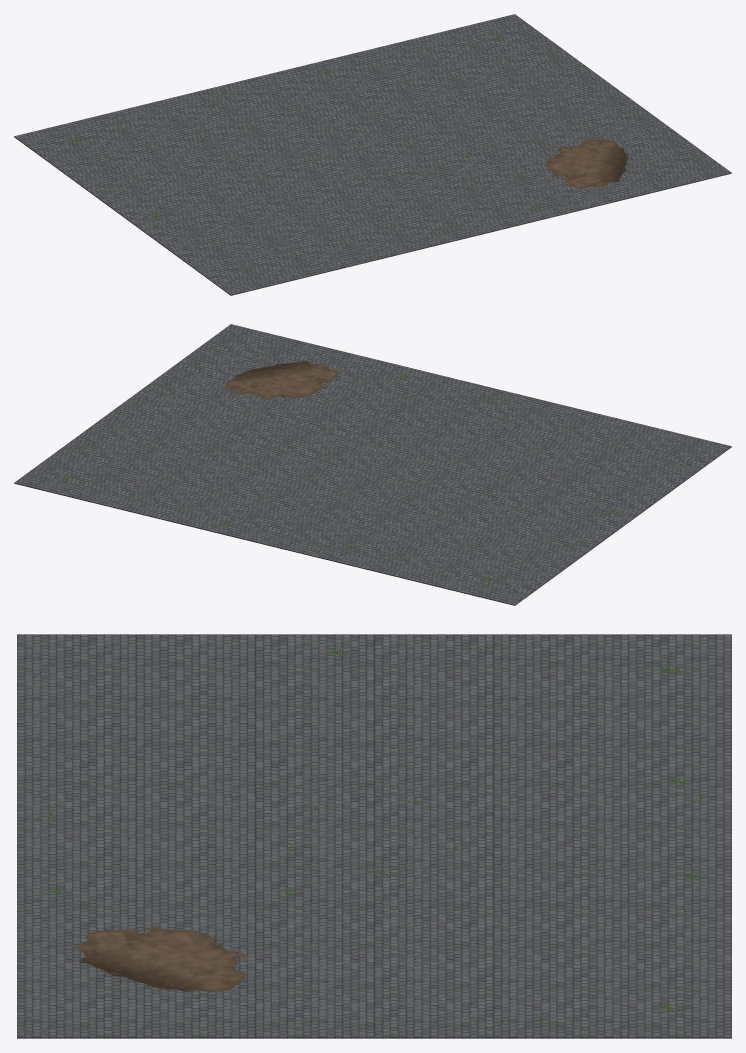
The model's file is CastleCourtyardGround.fbx.
The picture shows the model from 3 angles, top to bottom: view 1: azimuth 30°, elevation 25°; view 2: azimuth 150°, elevation 25°; view 3: azimuth 270°, elevation 25°; orthographic projection. The views are drawn at different scales.
Parts seen in each view (by area): view 1: Courtyard_FlagstoneFloor, Courtyard_DirtAndWeathering; view 2: Courtyard_FlagstoneFloor, Courtyard_DirtAndWeathering; view 3: Courtyard_FlagstoneFloor, Courtyard_DirtAndWeathering.
Boxes of the visible parts, x1,y1,x2,y2 form: Courtyard_FlagstoneFloor: (14, 14, 731, 295); Courtyard_DirtAndWeathering: (69, 34, 635, 234); Courtyard_FlagstoneFloor: (14, 324, 731, 605); Courtyard_DirtAndWeathering: (63, 360, 618, 583); Courtyard_FlagstoneFloor: (17, 634, 731, 1038); Courtyard_DirtAndWeathering: (45, 646, 704, 1023).
Bounding box in the file's own units: 160 × 0.2534 × 121.
Materials: 2 (2 with a texture image).
